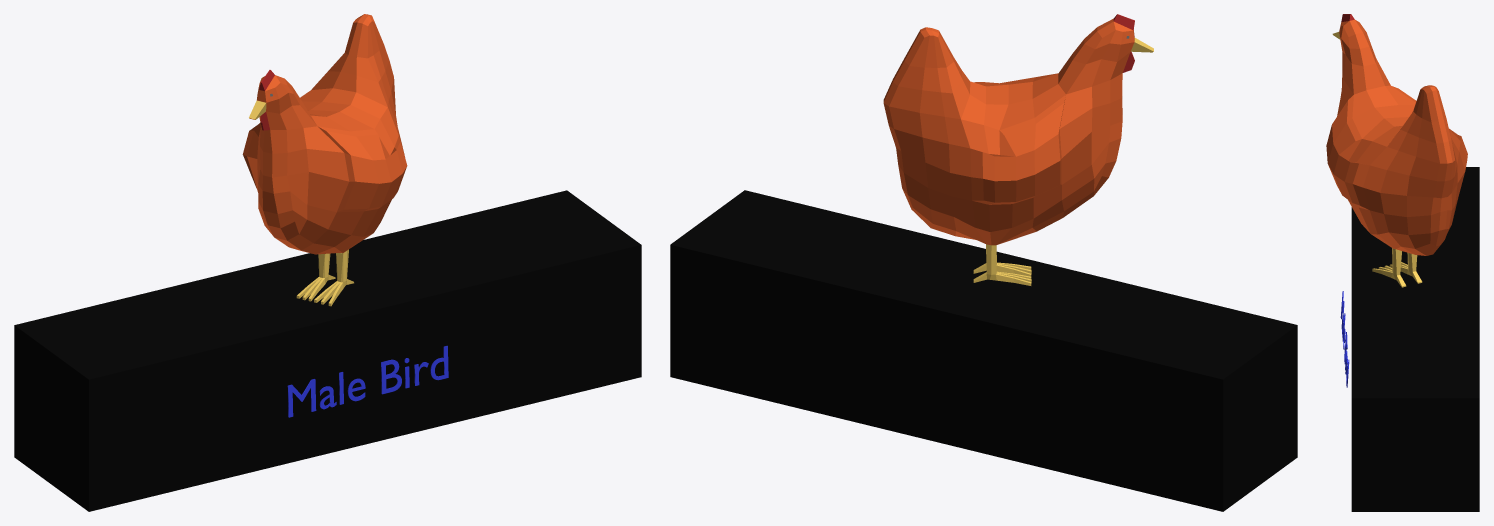
File: malechicken.gltf
3 views of the same model, side by side, from view 1: azimuth 30°, elevation 25°; view 2: azimuth 150°, elevation 25°; view 3: azimuth 270°, elevation 25° (orthographic). The views are drawn at different scales.
Visible parts, largest first — view 1: Cube.001, Chicken, Text.005; view 2: Cube.001, Chicken; view 3: Cube.001, Chicken, Text.005.
Part boxes in pixels (left/top/right/bottom): Cube.001: left=14, top=190, right=641, bottom=511; Chicken: left=242, top=14, right=407, bottom=306; Text.005: left=287, top=345, right=448, bottom=417; Cube.001: left=670, top=190, right=1297, bottom=511; Chicken: left=883, top=14, right=1153, bottom=285; Cube.001: left=1351, top=167, right=1479, bottom=511; Chicken: left=1326, top=14, right=1467, bottom=287; Text.005: left=1340, top=291, right=1349, bottom=387.
Bounding box in the file's own units: 3.34 × 2.3 × 0.934.
